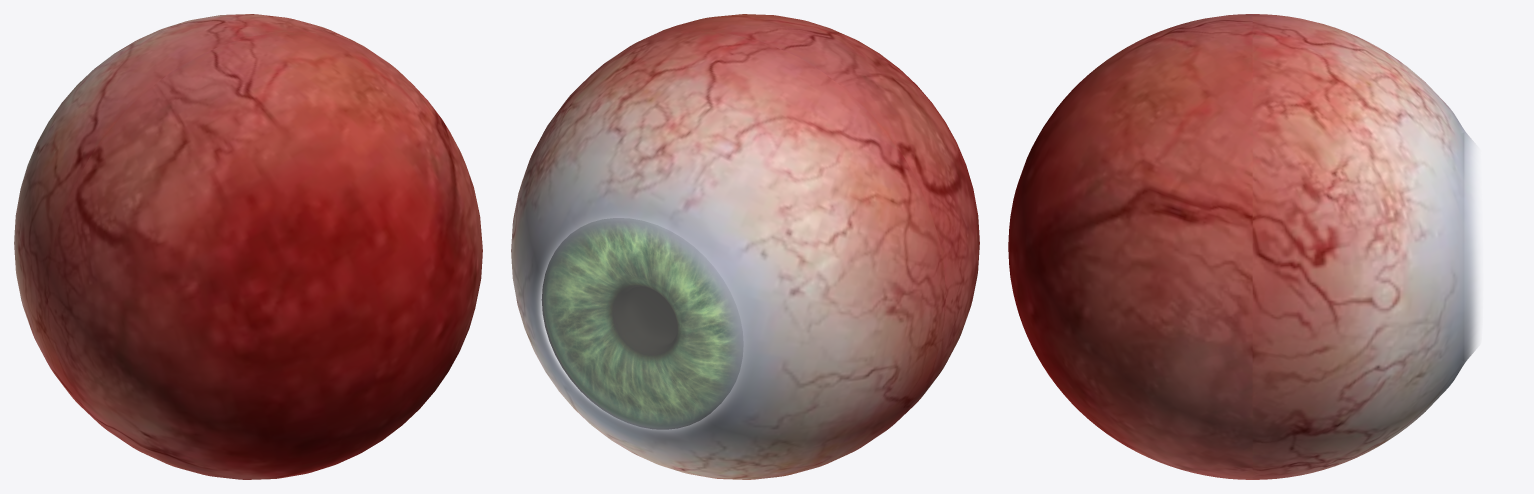
File: PRP_EyeModel.glb
3 views of the same model, side by side, from view 1: azimuth 30°, elevation 25°; view 2: azimuth 150°, elevation 25°; view 3: azimuth 270°, elevation 25° (orthographic).
Visible parts, largest first — view 1: Sclera_Sclera_001_Material_0; view 2: Sclera_Sclera_001_Material_0, Iris_Iris_001_Material_0; view 3: Sclera_Sclera_001_Material_0.
Part boxes in pixels (<box>): Sclera_Sclera_001_Material_0: <box>14,14,482,479</box>; Sclera_Sclera_001_Material_0: <box>511,14,979,479</box>; Iris_Iris_001_Material_0: <box>541,218,741,429</box>; Sclera_Sclera_001_Material_0: <box>1008,14,1479,479</box>.
Size of the model in its own units: 229 by 229 by 251.
2 materials, 2 textured.
